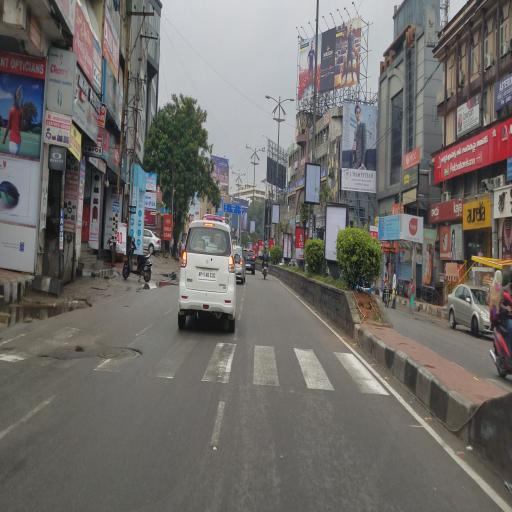street_light_0: (258, 90, 285, 121), (279, 90, 296, 120), (230, 164, 240, 186), (238, 164, 248, 182), (244, 144, 256, 156)
